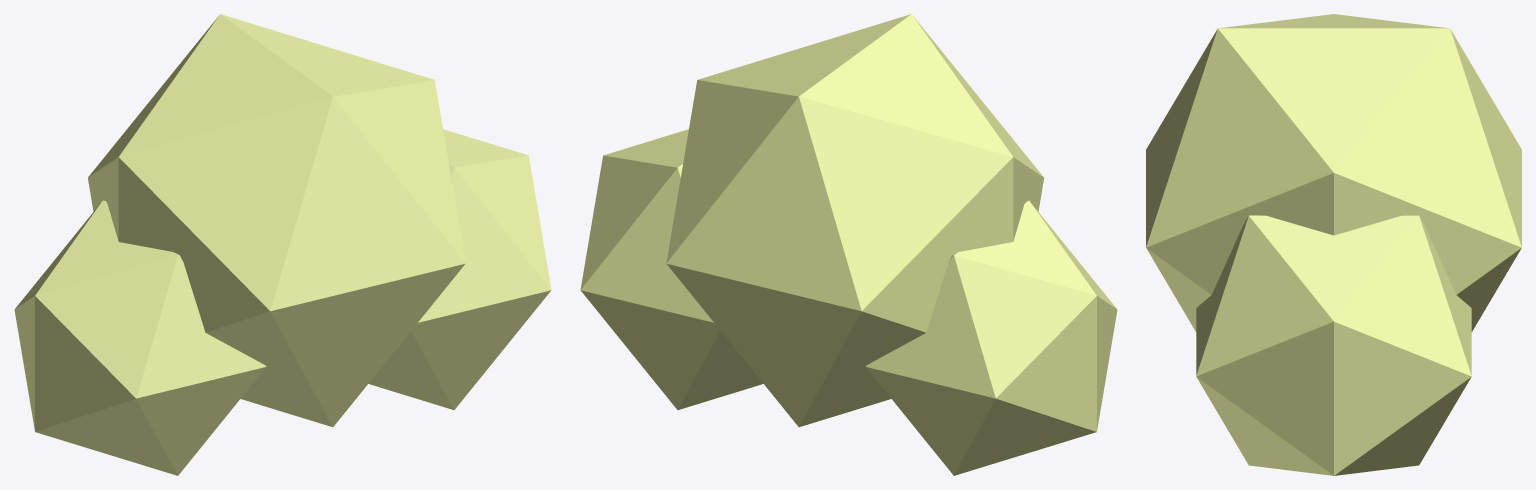
File: poof.glb
3 views of the same model, side by side, from view 1: azimuth 30°, elevation 25°; view 2: azimuth 150°, elevation 25°; view 3: azimuth 270°, elevation 25° (orthographic). The views are drawn at different scales.
Visible parts, largest first — view 1: Puff0, Puff1, Puff2; view 2: Puff0, Puff1, Puff2; view 3: Puff0, Puff2.
Boxes of the visible parts, left/top/right/bottom form: Puff0: left=88, top=14, right=465, bottom=427; Puff1: left=14, top=200, right=266, bottom=475; Puff2: left=368, top=129, right=551, bottom=409; Puff0: left=666, top=14, right=1043, bottom=427; Puff1: left=865, top=200, right=1117, bottom=475; Puff2: left=580, top=129, right=763, bottom=409; Puff0: left=1146, top=14, right=1521, bottom=331; Puff2: left=1196, top=215, right=1471, bottom=475.
Size of the model in its own units: 0.7973 by 0.5553 by 0.5104.
